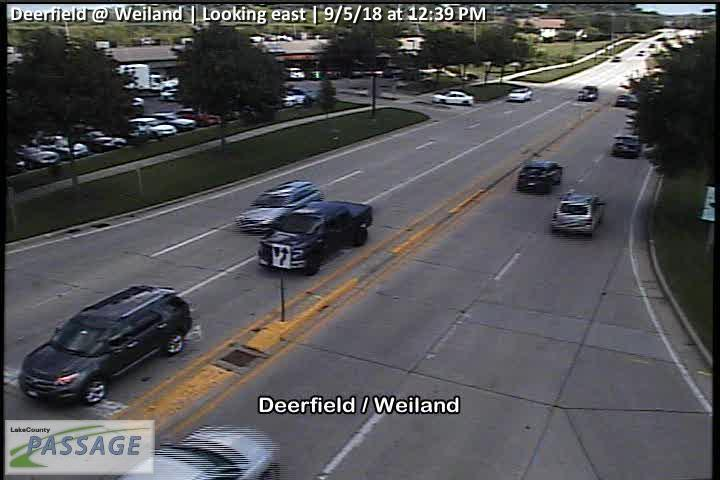SUV: (18, 285, 193, 402), (237, 180, 322, 237), (552, 191, 607, 240), (517, 160, 563, 194), (38, 134, 87, 159), (128, 118, 177, 137), (613, 134, 642, 159), (578, 86, 599, 101)
Sedan: (431, 90, 474, 108), (17, 147, 59, 165), (507, 86, 533, 102)
Truck: (257, 201, 373, 276)
